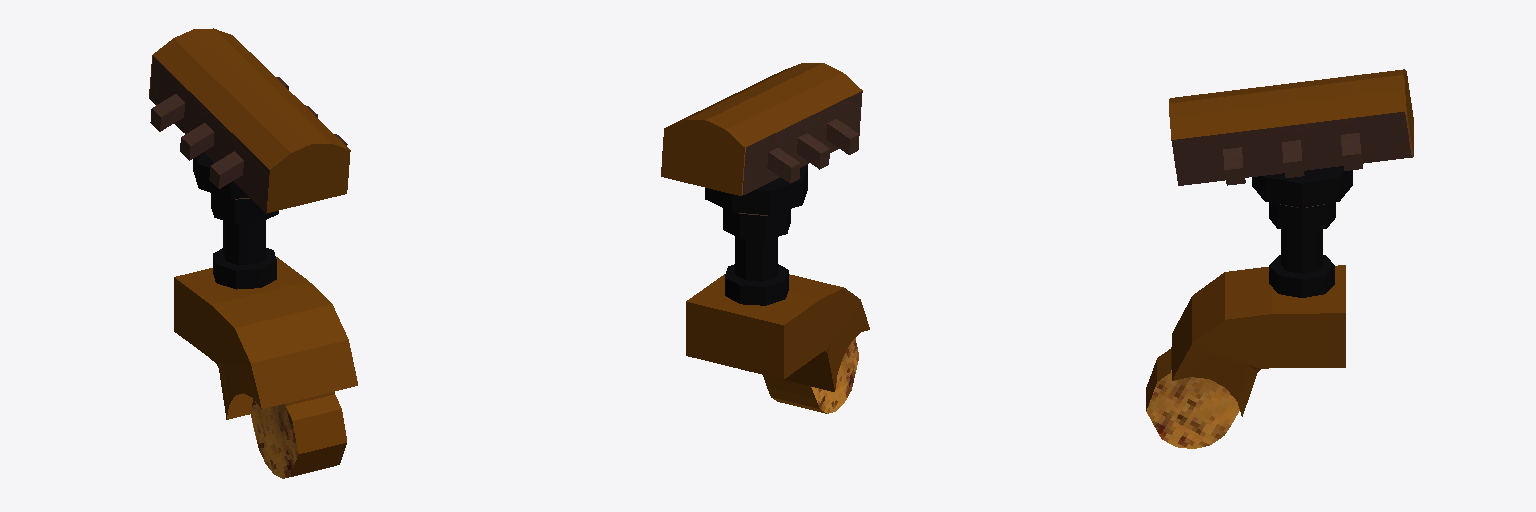
3 views of the same model, side by side, from view 1: azimuth 30°, elevation 25°; view 2: azimuth 150°, elevation 25°; view 3: azimuth 270°, elevation 25° (orthographic).
Parts seen in each view (by area): view 1: body:neck_lowpolySurface18, body:eyes_lowpolySurface274, body:neck_lowpolySurface48, body:eyes_lowpolySurface290, body:eyes_lowpolySurface333, body:neck_lowpolySurface46, body:neck_lowpolySurface27, body:neck_lowpolySurface32, body:neck_lowpolySurface25, body:neck_lowpolySurface34, body:neck_lowpolySurface28; view 2: body:eyes_lowpolySurface274, body:neck_lowpolySurface23, body:neck_lowpolySurface18, body:eyes_lowpolySurface271, body:neck_lowpolySurface48, body:eyes_lowpolySurface333, body:neck_lowpolySurface34, body:neck_lowpolySurface27, body:neck_lowpolySurface32, body:neck_lowpolySurface46, body:neck_lowpolySurface25, body:neck_lowpolySurface28; view 3: body:eyes_lowpolySurface274, body:neck_lowpolySurface21, body:eyes_lowpolySurface272, body:neck_lowpolySurface18, body:neck_lowpolySurface19, body:neck_lowpolySurface34, body:neck_lowpolySurface27, body:neck_lowpolySurface32, body:neck_lowpolySurface25, body:neck_lowpolySurface38, body:neck_lowpolySurface28.
Part boxes in pixels (x1,y1,x2,y2): body:neck_lowpolySurface18: (175, 257, 357, 477); body:eyes_lowpolySurface274: (153, 28, 349, 169); body:neck_lowpolySurface48: (174, 277, 261, 419); body:eyes_lowpolySurface290: (266, 144, 350, 213); body:eyes_lowpolySurface333: (149, 55, 269, 212); body:neck_lowpolySurface46: (251, 399, 297, 478); body:neck_lowpolySurface27: (223, 220, 265, 264); body:neck_lowpolySurface32: (211, 193, 278, 223); body:neck_lowpolySurface25: (213, 256, 276, 289); body:neck_lowpolySurface34: (193, 157, 249, 198); body:neck_lowpolySurface28: (213, 248, 276, 270); body:eyes_lowpolySurface274: (668, 63, 862, 147); body:neck_lowpolySurface23: (686, 302, 783, 379); body:neck_lowpolySurface18: (686, 274, 843, 413); body:eyes_lowpolySurface271: (661, 120, 744, 195); body:neck_lowpolySurface48: (784, 288, 869, 389); body:eyes_lowpolySurface333: (742, 91, 862, 195); body:neck_lowpolySurface34: (705, 166, 807, 214); body:neck_lowpolySurface27: (735, 236, 777, 281); body:neck_lowpolySurface32: (723, 208, 790, 240); body:neck_lowpolySurface46: (811, 338, 858, 413); body:neck_lowpolySurface25: (725, 272, 788, 305); body:neck_lowpolySurface28: (725, 264, 788, 286); body:eyes_lowpolySurface274: (1169, 69, 1406, 139); body:neck_lowpolySurface21: (1172, 313, 1345, 416); body:eyes_lowpolySurface272: (1171, 111, 1413, 185); body:neck_lowpolySurface18: (1146, 265, 1345, 410); body:neck_lowpolySurface19: (1146, 370, 1239, 448); body:neck_lowpolySurface34: (1252, 170, 1352, 207); body:neck_lowpolySurface27: (1281, 230, 1322, 273); body:neck_lowpolySurface32: (1269, 202, 1335, 232); body:neck_lowpolySurface25: (1269, 266, 1334, 297); body:neck_lowpolySurface38: (1264, 166, 1343, 183); body:neck_lowpolySurface28: (1269, 255, 1334, 278).
Size of the model in its own units: 35.96 by 97.56 by 65.2.
Materials: 3 (1 with a texture image).